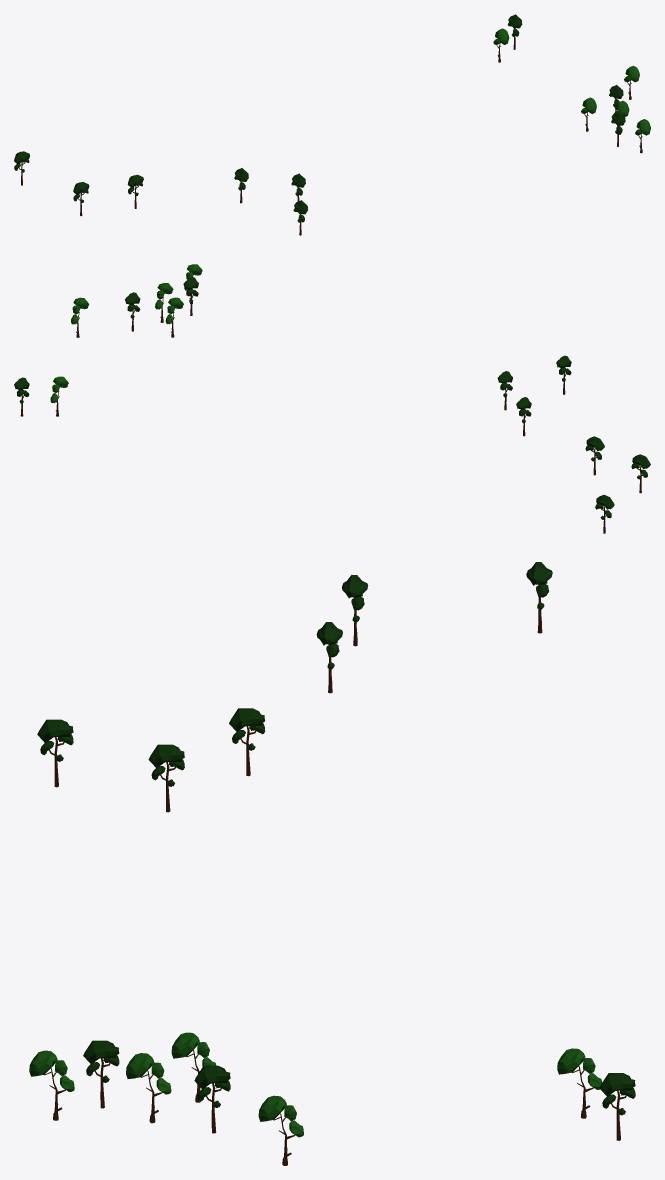
Rendered from arboles2.obj.
The picture shows the model from 3 angles, top to bottom: view 1: azimuth 30°, elevation 25°; view 2: azimuth 150°, elevation 25°; view 3: azimuth 270°, elevation 25°; orthographic projection. The views are drawn at different scales.
Visible parts, largest first — view 1: no part large enough to name; view 2: no part large enough to name; view 3: 139.009, 139.011, 139.007, 139.010, 140.006, 140.002, 140.007, 140.008, 140.004, 140.003, 139.008.
Part boxes in pixels (<box>): 139.009: <box>126,1053,171,1123</box>; 139.011: <box>258,1095,303,1165</box>; 139.007: <box>29,1050,74,1120</box>; 139.010: <box>557,1048,602,1118</box>; 140.006: <box>83,1040,119,1108</box>; 140.002: <box>37,719,73,787</box>; 140.007: <box>194,1065,230,1133</box>; 140.008: <box>599,1073,635,1140</box>; 140.004: <box>229,708,265,776</box>; 140.003: <box>148,744,184,812</box>; 139.008: <box>171,1032,216,1102</box>.
Bounding box in the file's own units: 8.44 × 0.5523 × 3.97.
